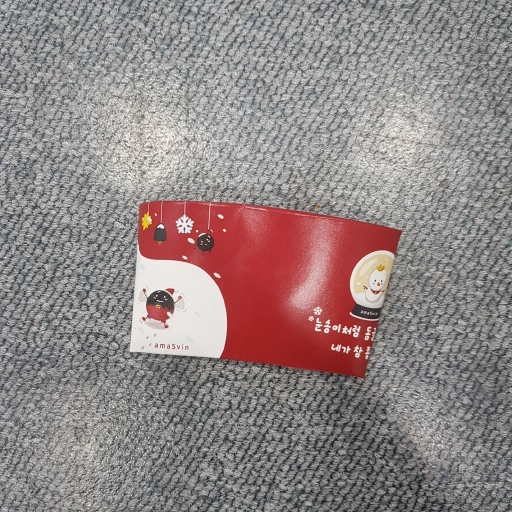Paper_0: (123, 194, 410, 398)
